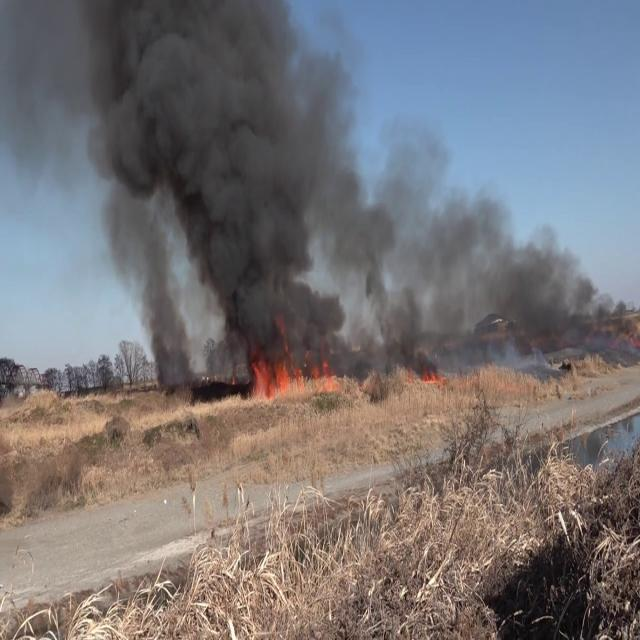Fire: (245, 336, 347, 402)
Smoke: (6, 0, 364, 378), (354, 137, 636, 371)
